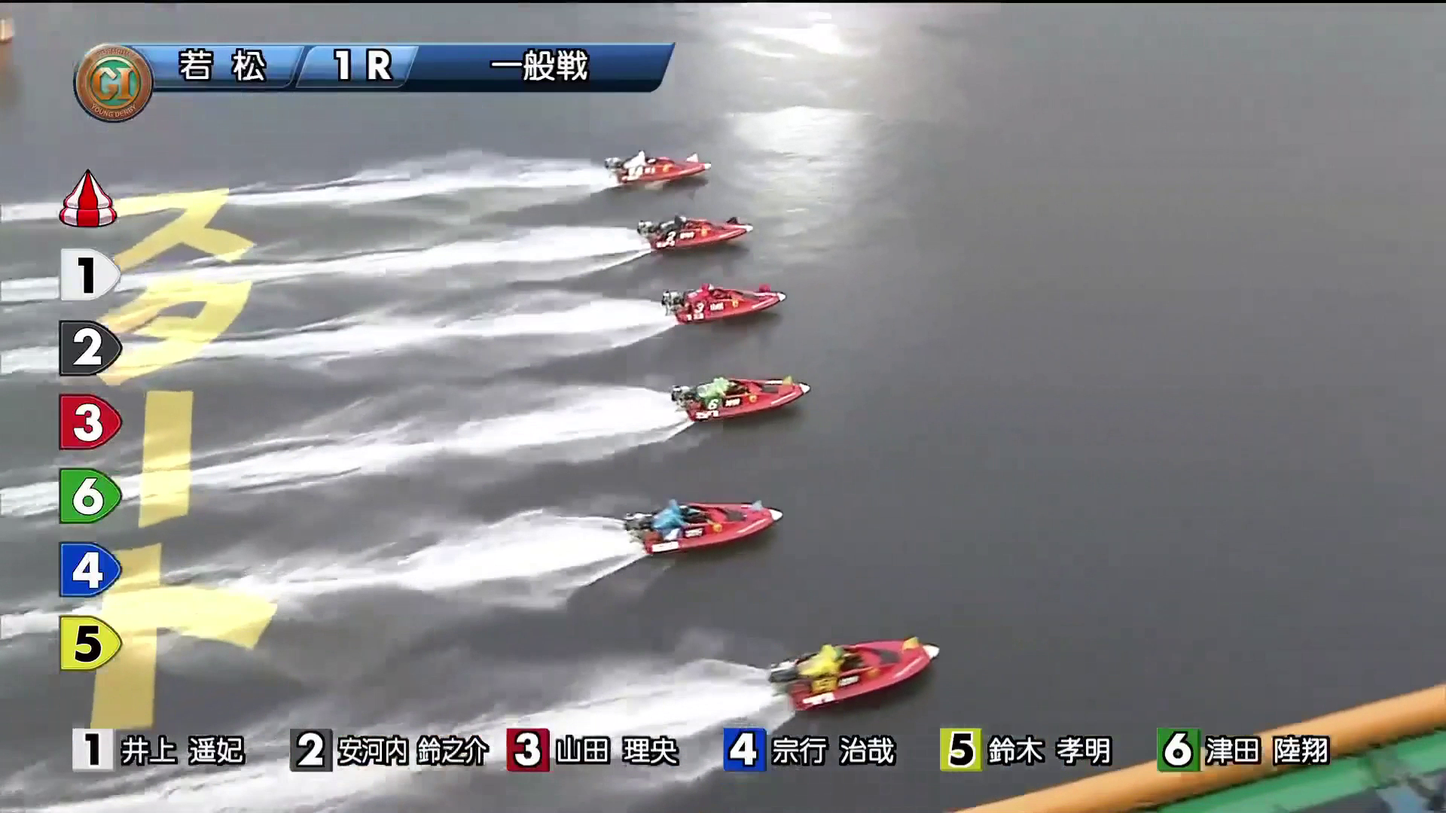１号艇: (621, 145, 697, 185)
２号艇: (646, 210, 749, 248)
３号艇: (670, 276, 796, 318)
４号艇: (690, 364, 795, 407)
５号艇: (638, 494, 758, 549)
６号艇: (756, 633, 914, 690)
